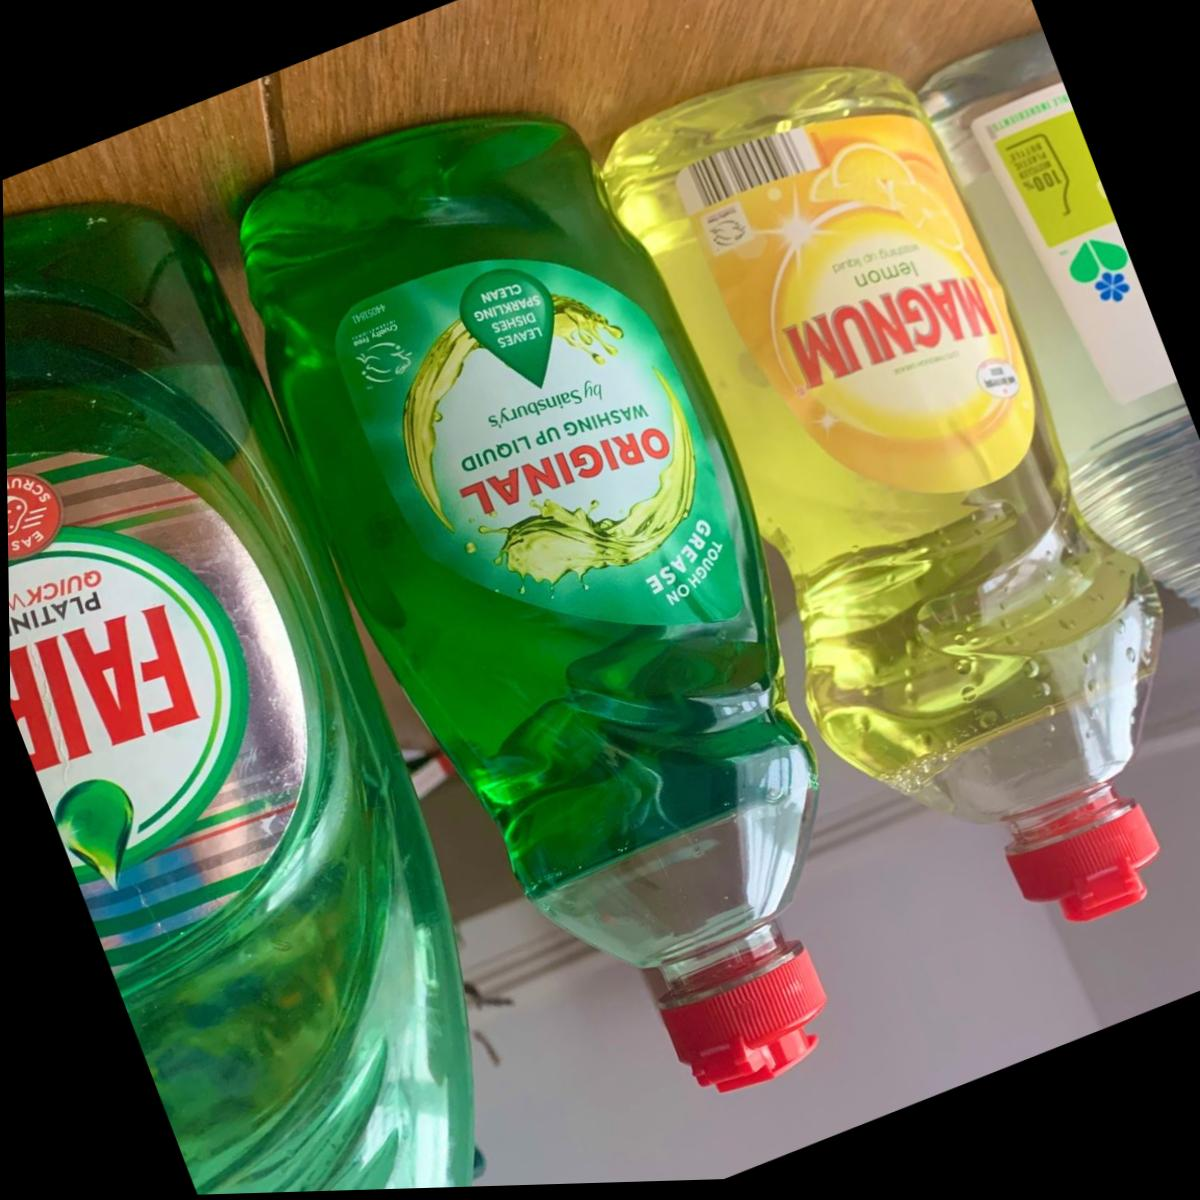plastic: (166, 70, 1015, 1188), (557, 36, 1199, 959), (0, 204, 473, 1199), (921, 36, 1199, 608)
